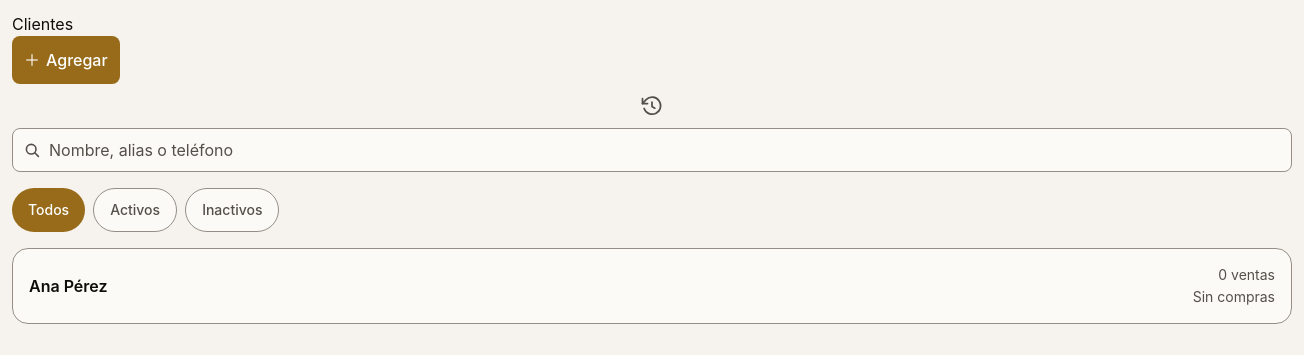
Test: Clientes - estados › búsqueda sin resultados: mensaje específico con el término buscado
The image size is (1304, 355).
Type "zzz" into the search field named "Buscar cliente" at (652, 150), box x1=12 y1=128 x2=1292 y2=172
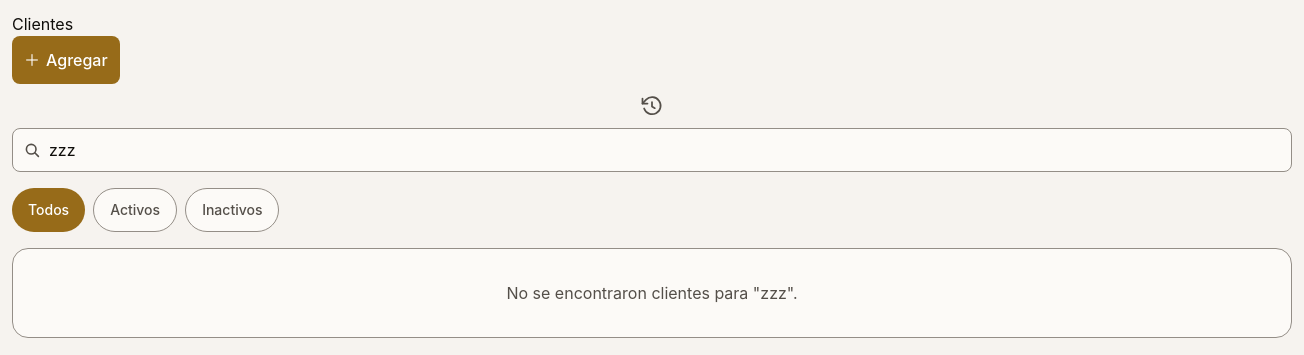
Check: the text "No se encontraron clientes para \"zzz\"." is shown, box x1=12 y1=248 x2=1292 y2=338
